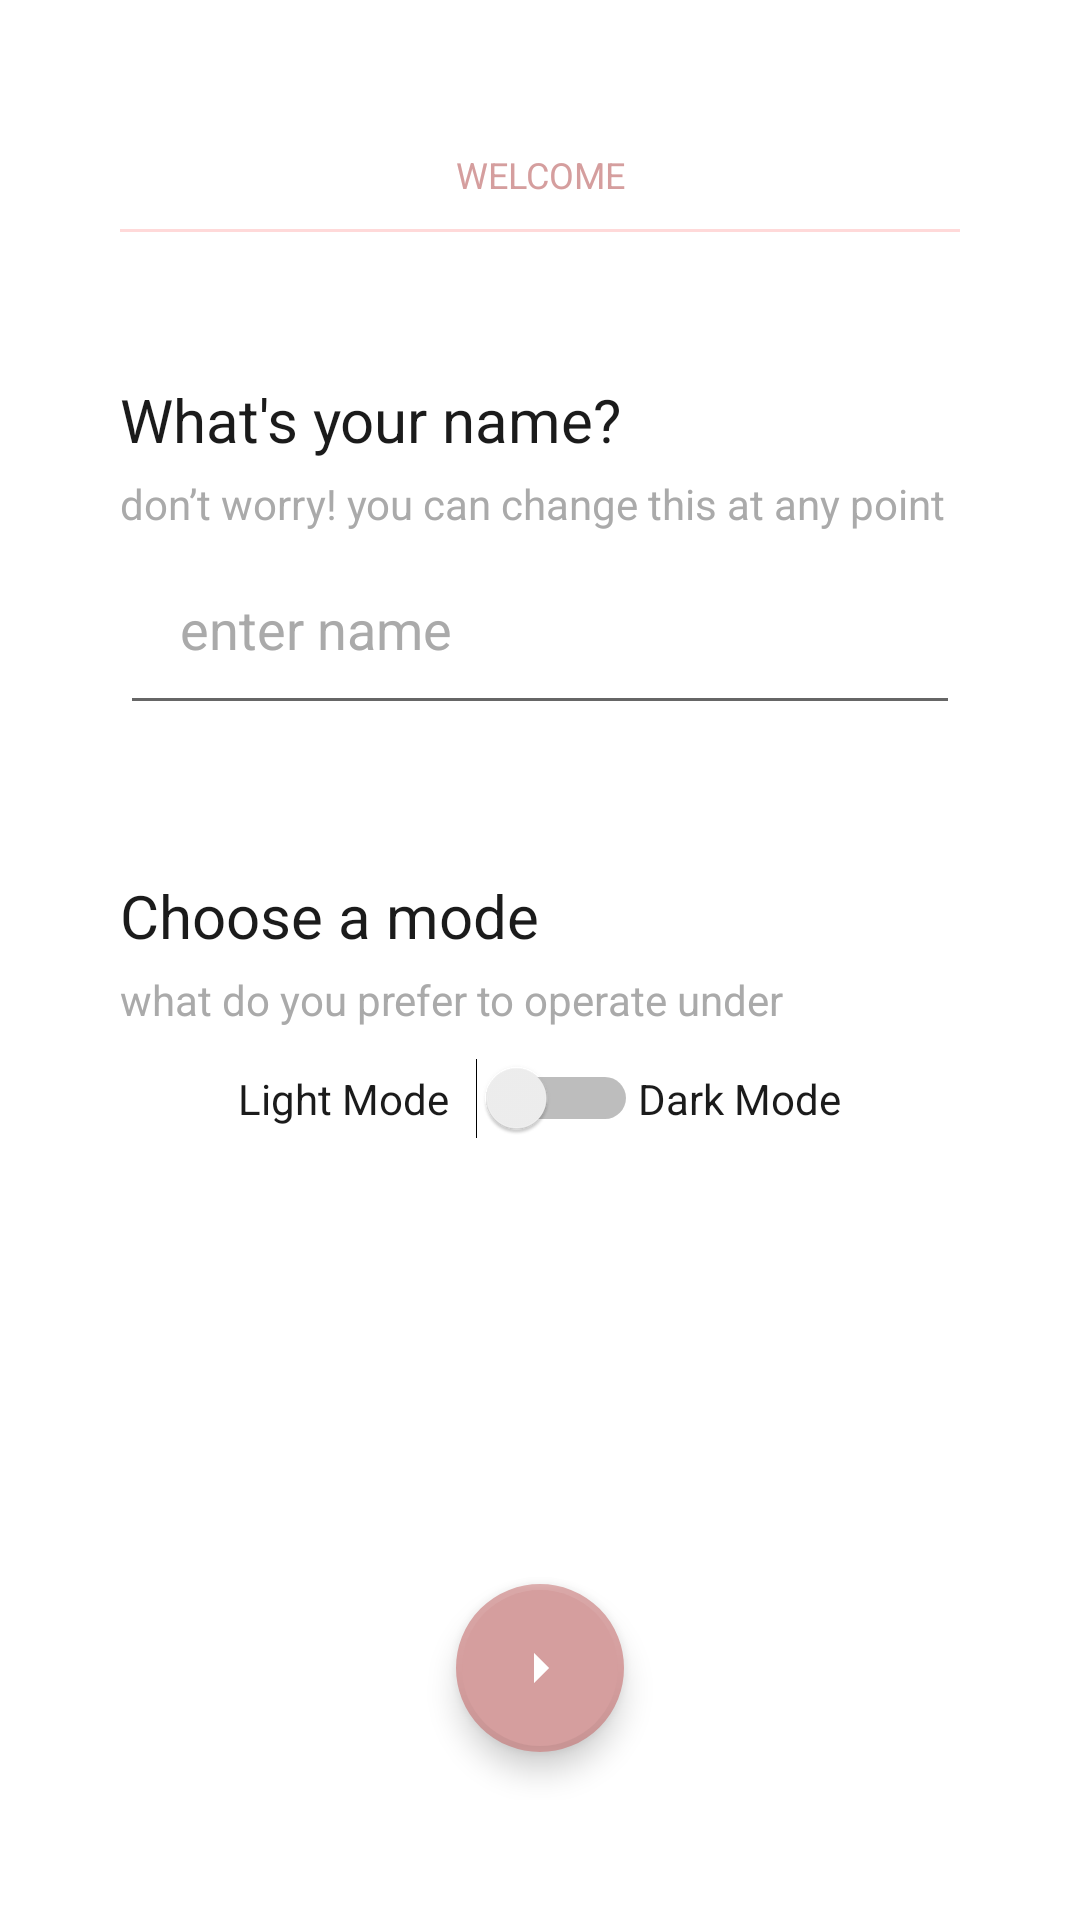

Point at icon controls on the screen. Image size 1080 x 1920, points as point (x, y).
arrow: point (540, 1668)
